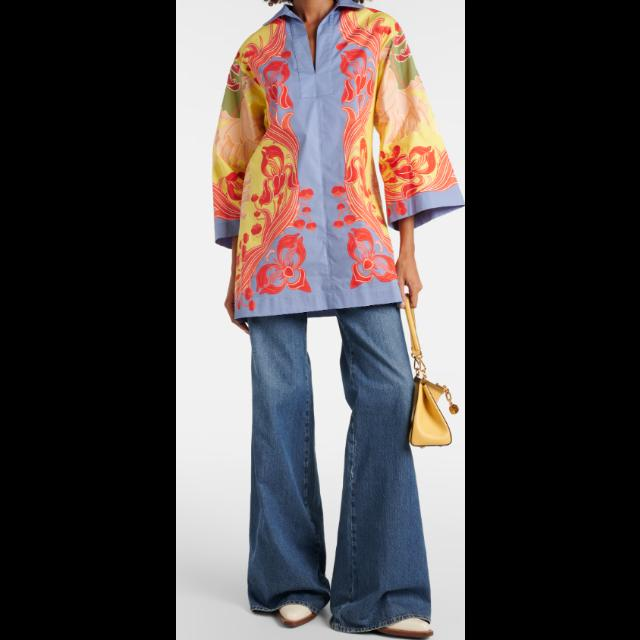bottom: (248, 318, 414, 616)
top: (212, 16, 436, 312)
